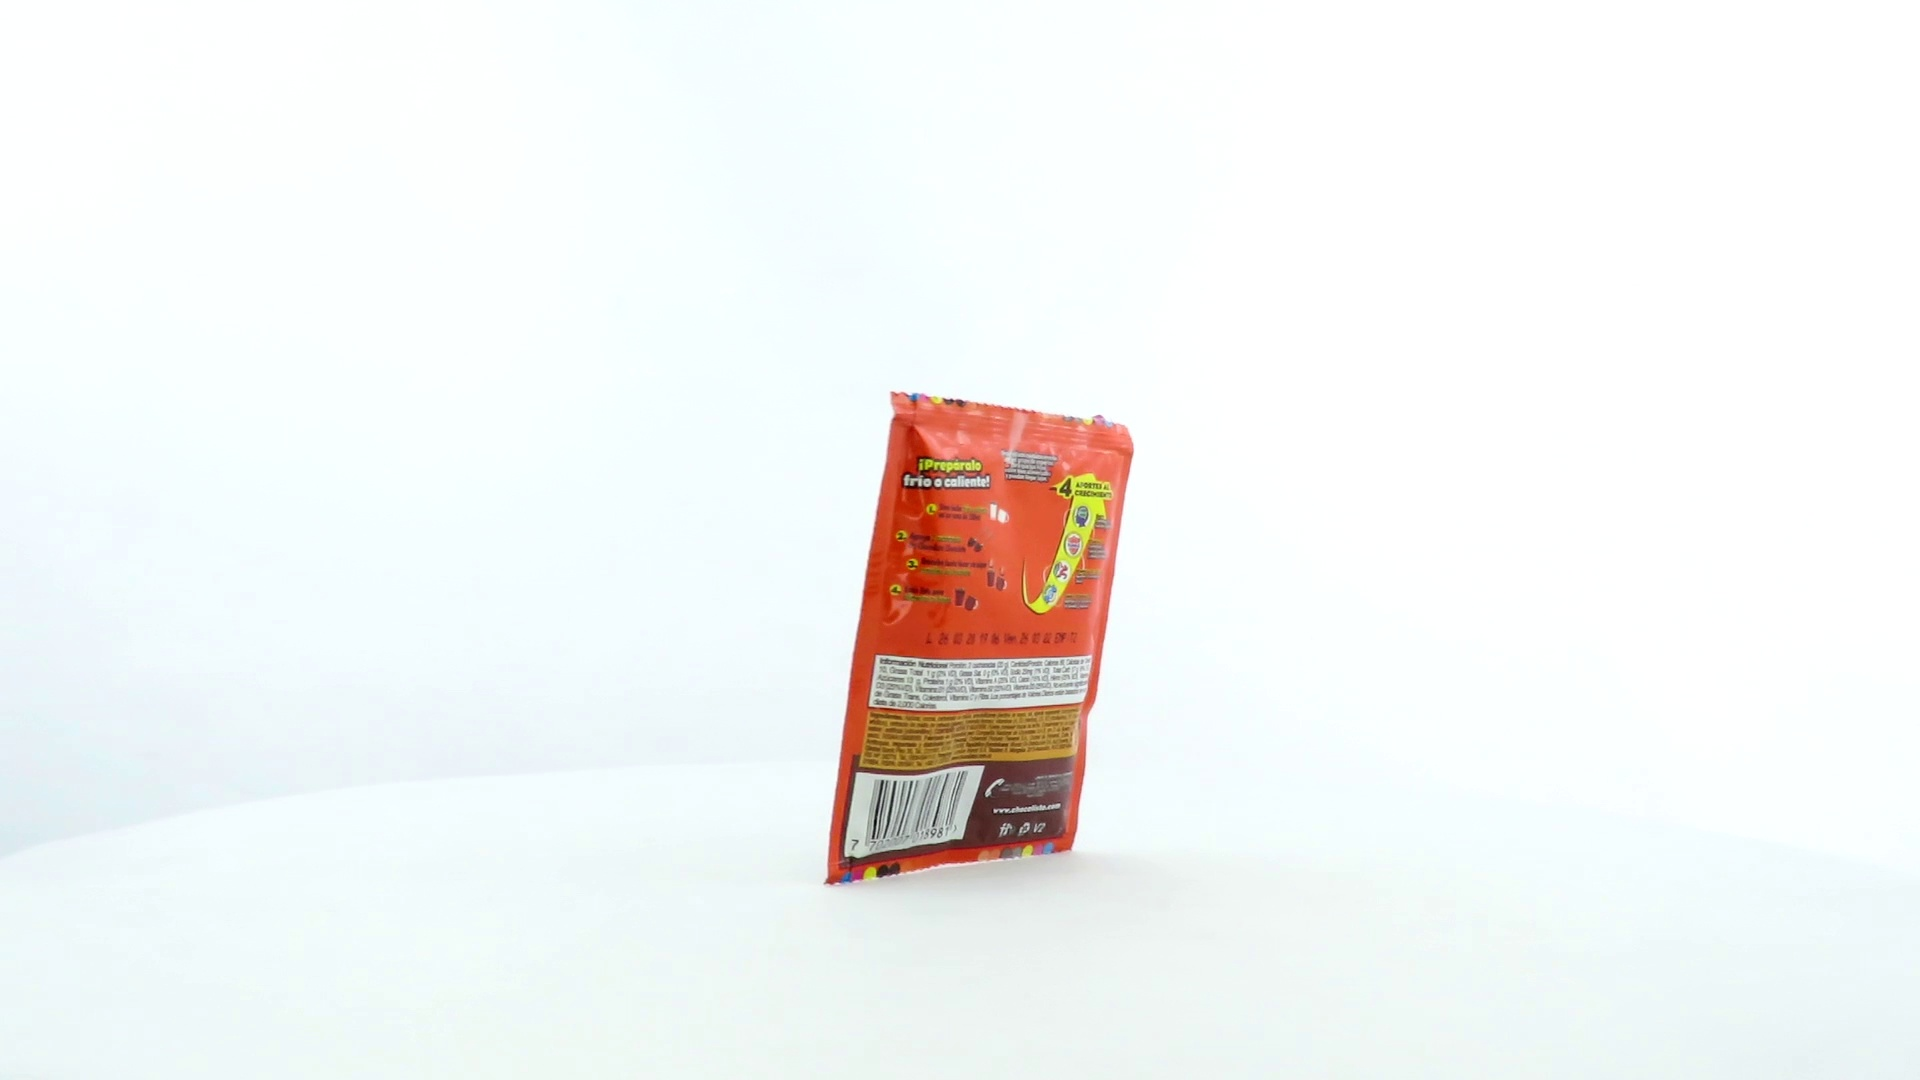COL0170103SOB02000: (818, 386, 1139, 891)
